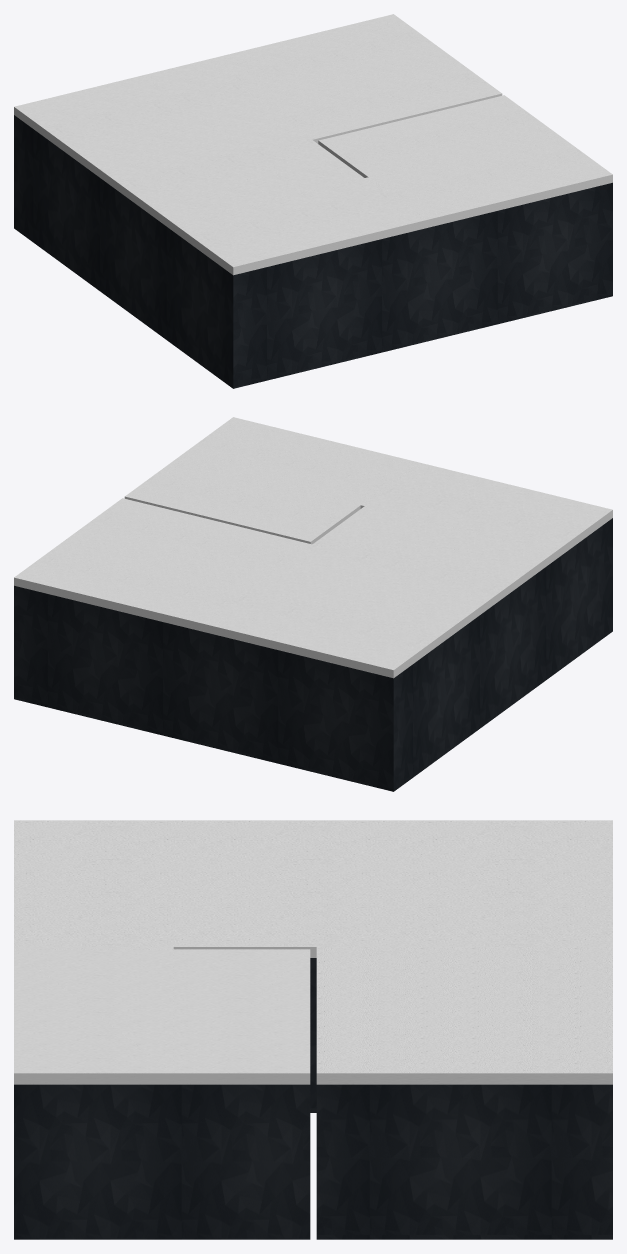
The picture shows the model from 3 angles, top to bottom: view 1: azimuth 30°, elevation 25°; view 2: azimuth 150°, elevation 25°; view 3: azimuth 270°, elevation 25°; orthographic projection. The views are drawn at different scales.
Parts seen in each view (by area): view 1: Ceiling, w2, Ceiling_3, w3_3, w3, Ceiling_2; view 2: Ceiling, w2, Ceiling_2, w1_2, w1, Ceiling_3; view 3: Ceiling, w3_2, w2_3, Ceiling_2, Ceiling_3, w4.
Boxes of the visible parts, x1,y1,x2,y2 form: Ceiling: (14,60,422,275); w2: (14,115,233,388); Ceiling_3: (318,95,612,228); w3_3: (423,182,612,342); w3: (233,229,422,388); Ceiling_2: (204,14,502,143); Ceiling: (204,463,612,678); w2: (393,518,612,791); Ceiling_2: (14,498,311,631); w1_2: (14,585,203,745); w1: (204,632,393,791); Ceiling_3: (124,417,422,544); Ceiling: (14,820,612,957); w3_2: (316,1084,612,1239); w2_3: (14,1084,310,1239); Ceiling_2: (316,947,612,1084); Ceiling_3: (14,947,310,1084); w4: (310,958,316,1112).
Size of the model in its own units: 980 by 300 by 980.
5 materials, 5 textured.
